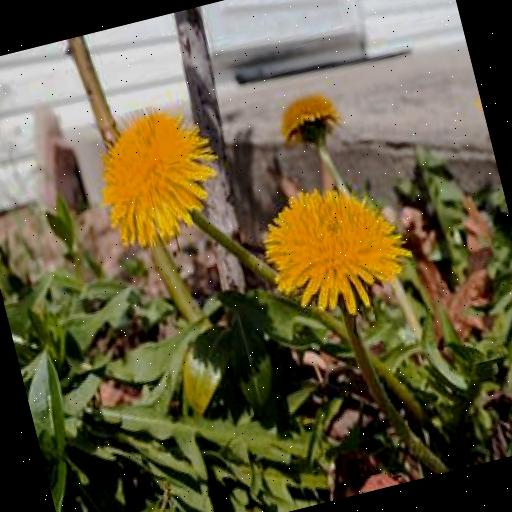dandelion: (253, 170, 420, 326), (85, 96, 234, 257), (274, 88, 343, 150)
